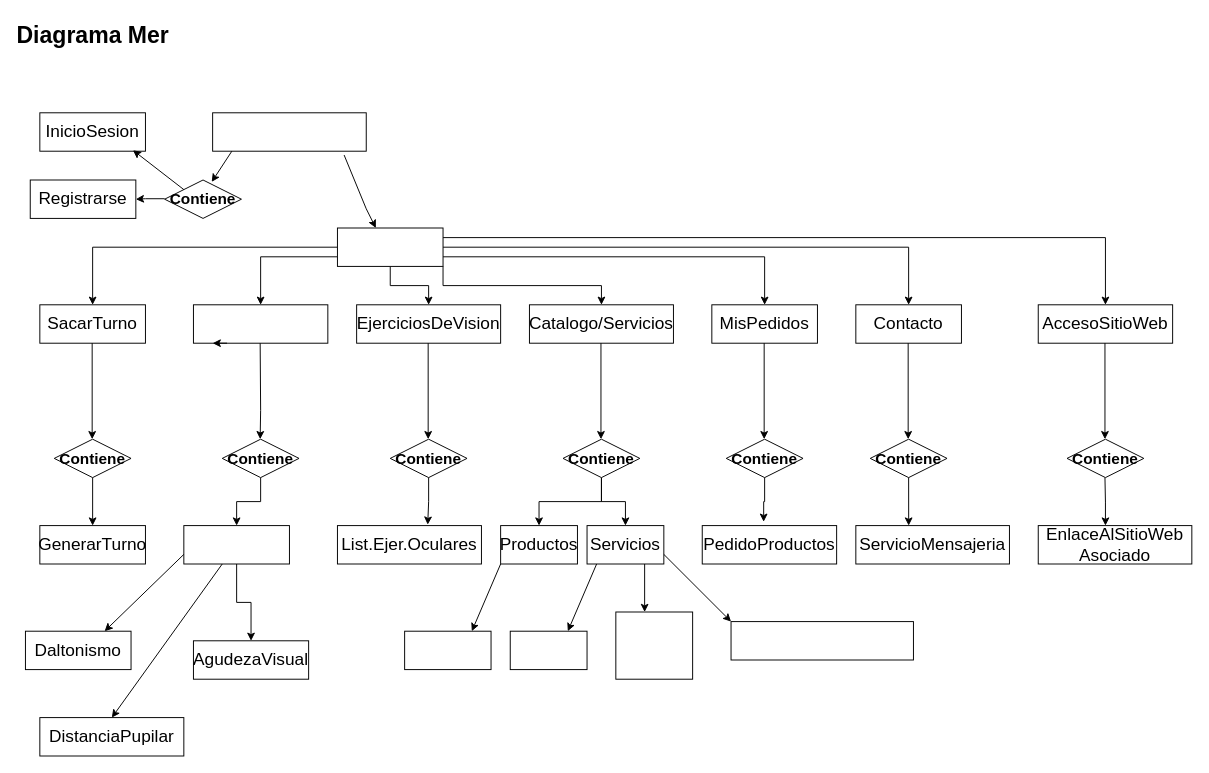
Some shapes in this 1209 by 773 pixel diagram are drawn without their labels. The centre of each missing label's shape, as x and y in pixels:
"Carrito De Compras" goes at (447,650).
"ConsultaOftalmologica" goes at (821,640).
"Home" goes at (389,246).
"PruebasDeVision" goes at (260,323).
"Seguro Rotura Cristal" goes at (654,645).
"Taller De Montaje" goes at (548,650).
"Test" goes at (236,544).
"UsuarioRegistrado" goes at (289,131).
